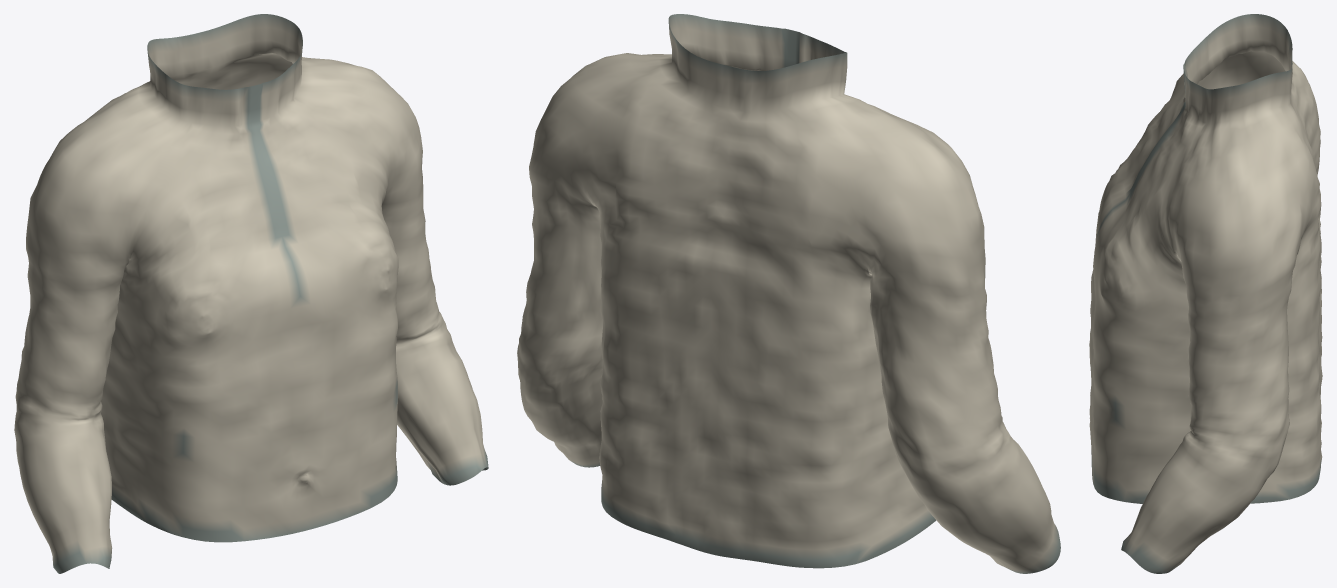
The model's file is fleece-female.glb.
The picture shows the model from 3 angles, left to right: view 1: azimuth 30°, elevation 25°; view 2: azimuth 150°, elevation 25°; view 3: azimuth 270°, elevation 25°; orthographic projection. The views are drawn at different scales.
Visible parts, largest first — view 1: Fleece_Web; view 2: Fleece_Web; view 3: Fleece_Web.
Boxes of the visible parts, x1,y1,x2,y2 form: Fleece_Web: [14, 14, 488, 573]; Fleece_Web: [517, 14, 1060, 573]; Fleece_Web: [1089, 14, 1322, 573].
Bounding box in the file's own units: 0.5491 × 0.5432 × 0.2642.
